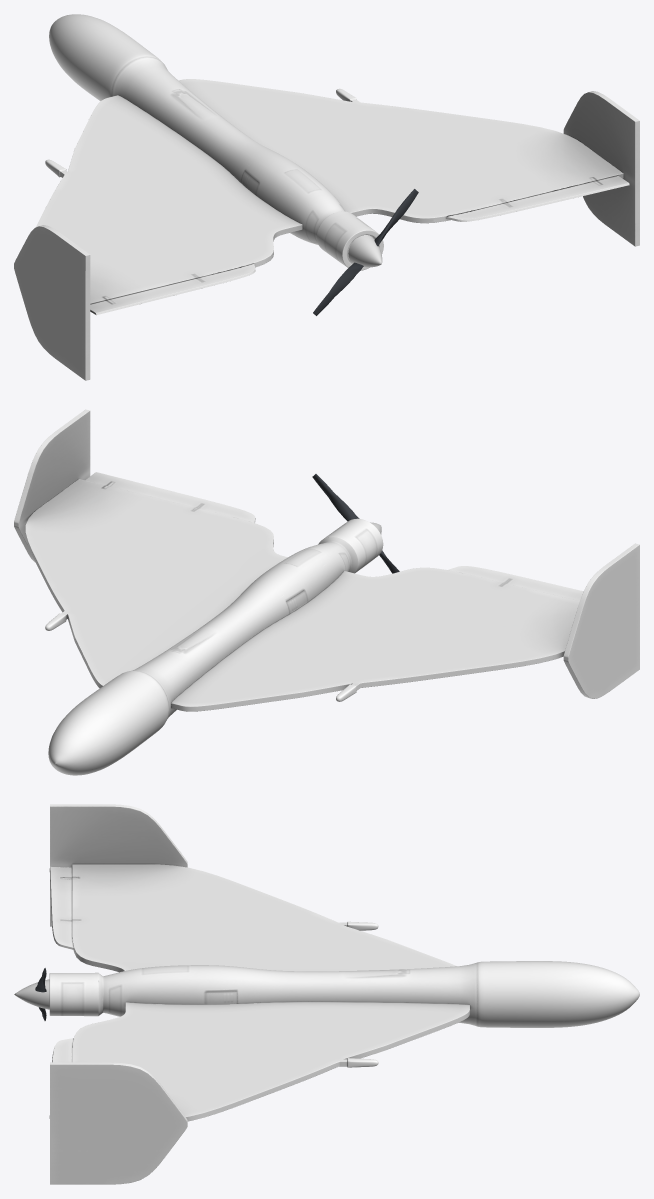
File: SHAHED PAINT.fbx
3 renders of one model, top to bottom at view 1: azimuth 30°, elevation 25°; view 2: azimuth 150°, elevation 25°; view 3: azimuth 270°, elevation 25°, orthographic. The views are drawn at different scales.
Parts seen in each view (by area): view 1: WIBGS, BODY, W_T, W, Polygon_16, Polygon_12; view 2: WIBGS, BODY, W_T, W, Polygon_15; view 3: WIBGS, BODY, W_T, W, Polygon_16.
Part boxes in pixels (left/top/right/bottom): WIBGS: left=36, top=79, right=623, bottom=304; BODY: left=49, top=14, right=383, bottom=270; W_T: left=14, top=91, right=639, bottom=380; W: left=90, top=176, right=629, bottom=315; Polygon_16: left=348, top=235, right=382, bottom=267; Polygon_12: left=313, top=262, right=363, bottom=315; WIBGS: left=25, top=479, right=579, bottom=711; BODY: left=48, top=518, right=383, bottom=775; W_T: left=14, top=409, right=639, bottom=698; W: left=85, top=472, right=583, bottom=601; Polygon_15: left=312, top=474, right=359, bottom=521; WIBGS: left=72, top=864, right=469, bottom=1121; BODY: left=49, top=961, right=639, bottom=1027; W_T: left=50, top=804, right=187, bottom=1184; W: left=49, top=866, right=73, bottom=1118; Polygon_16: left=14, top=979, right=49, bottom=1009.
Size of the model in its own units: 787 by 170 by 800.
3 materials, 1 textured.
